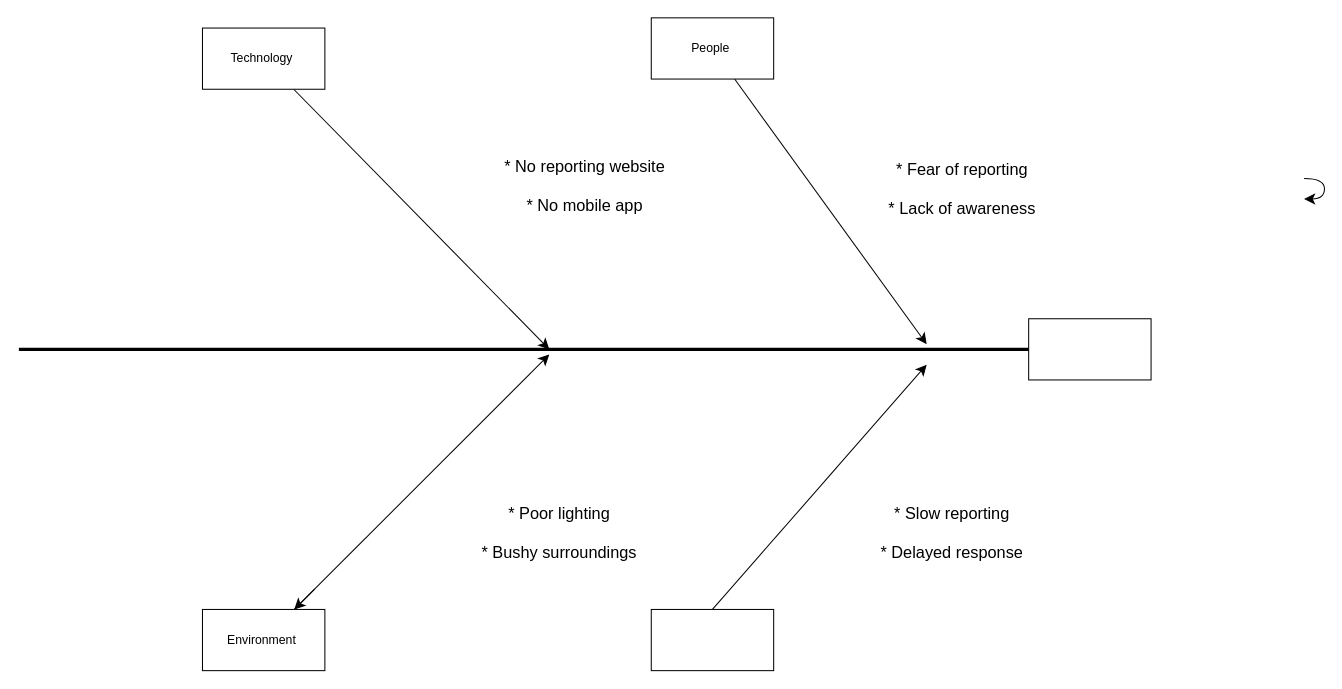
The diagram is 1342 pixels wide and 689 high, and some of its shapes have lost their labels. Here are the shapes that lost their labels. From the top down, the centre of each, then its label:
At [1089,349]: "High Rate of Campus Insecurity".
At [712,639]: "Process".
